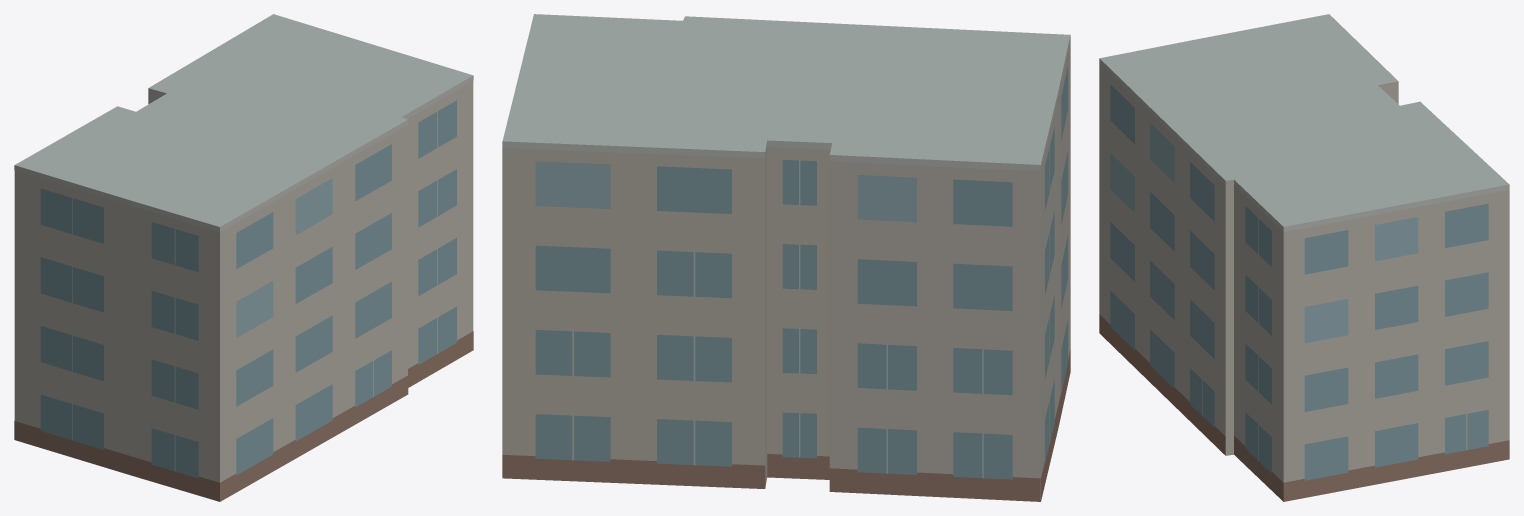
File: survey-upis-32741647.glb
3 renders of one model, left to right at view 1: azimuth 30°, elevation 25°; view 2: azimuth 150°, elevation 25°; view 3: azimuth 270°, elevation 25°, orthographic. The views are drawn at different scales.
Visible parts, largest first — view 1: survey-upis-32741647.tmp; view 2: survey-upis-32741647.tmp; view 3: survey-upis-32741647.tmp.
Part boxes in pixels (x1=…): survey-upis-32741647.tmp: x1=14, y1=14, x2=473, y2=501; survey-upis-32741647.tmp: x1=502, y1=14, x2=1070, y2=501; survey-upis-32741647.tmp: x1=1099, y1=14, x2=1509, y2=501.
Bounding box in the file's own units: 21.27 × 12.8 × 17.31.
